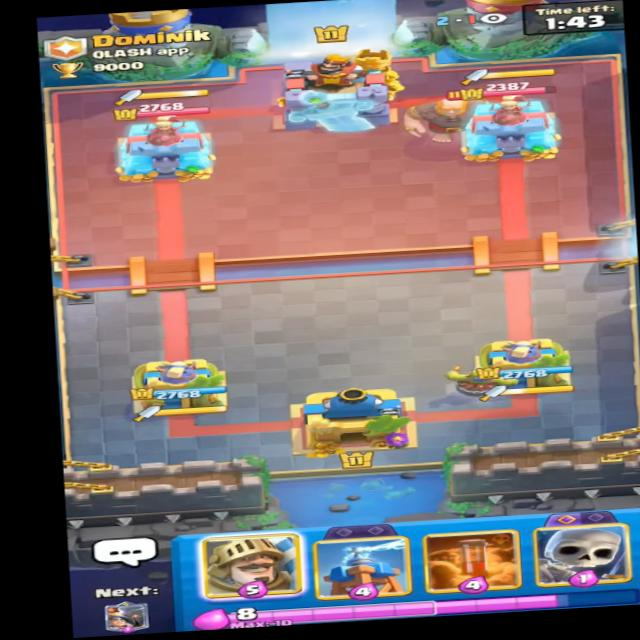Giant: (398, 83, 504, 144)
